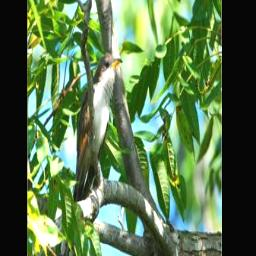Cuckoo: (72, 51, 122, 200)
